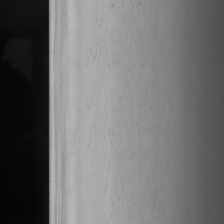silk_spot: (85, 14, 165, 206)
